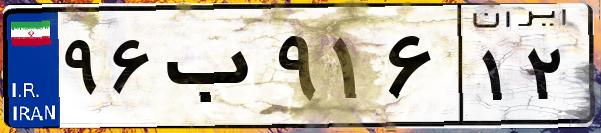1: (330, 28, 385, 110), (475, 38, 525, 113)
2: (525, 38, 570, 115)
6: (385, 28, 445, 110), (110, 28, 158, 98)
9: (270, 28, 330, 110), (57, 26, 110, 100)
ب: (158, 20, 270, 120)
